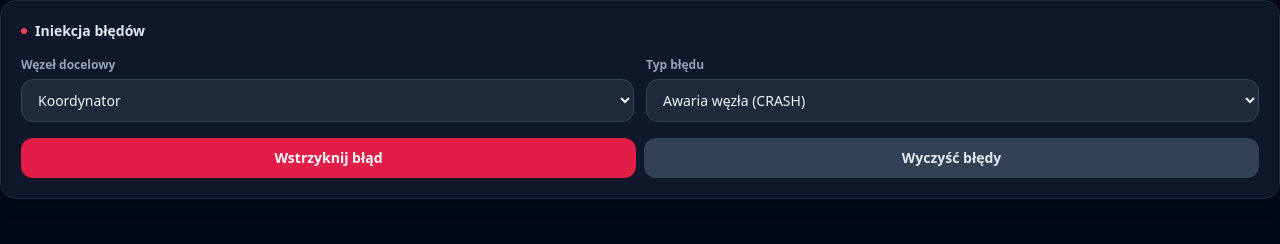
Test: FaultInjectionPanel › injectFault_givenApiError_displaysErrorMessage
Click the button "Wstrzyknij błąd" at (328, 158), box top-left (21, 138), bottom-right (636, 178)
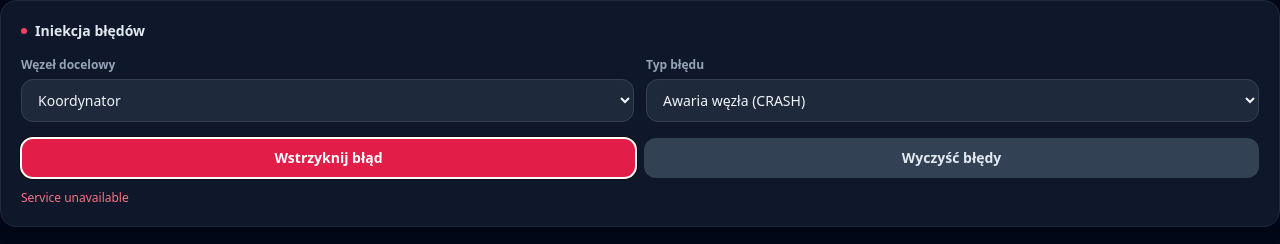
Result: the text "Service unavailable" is shown at top-left (21, 189), bottom-right (129, 206)
